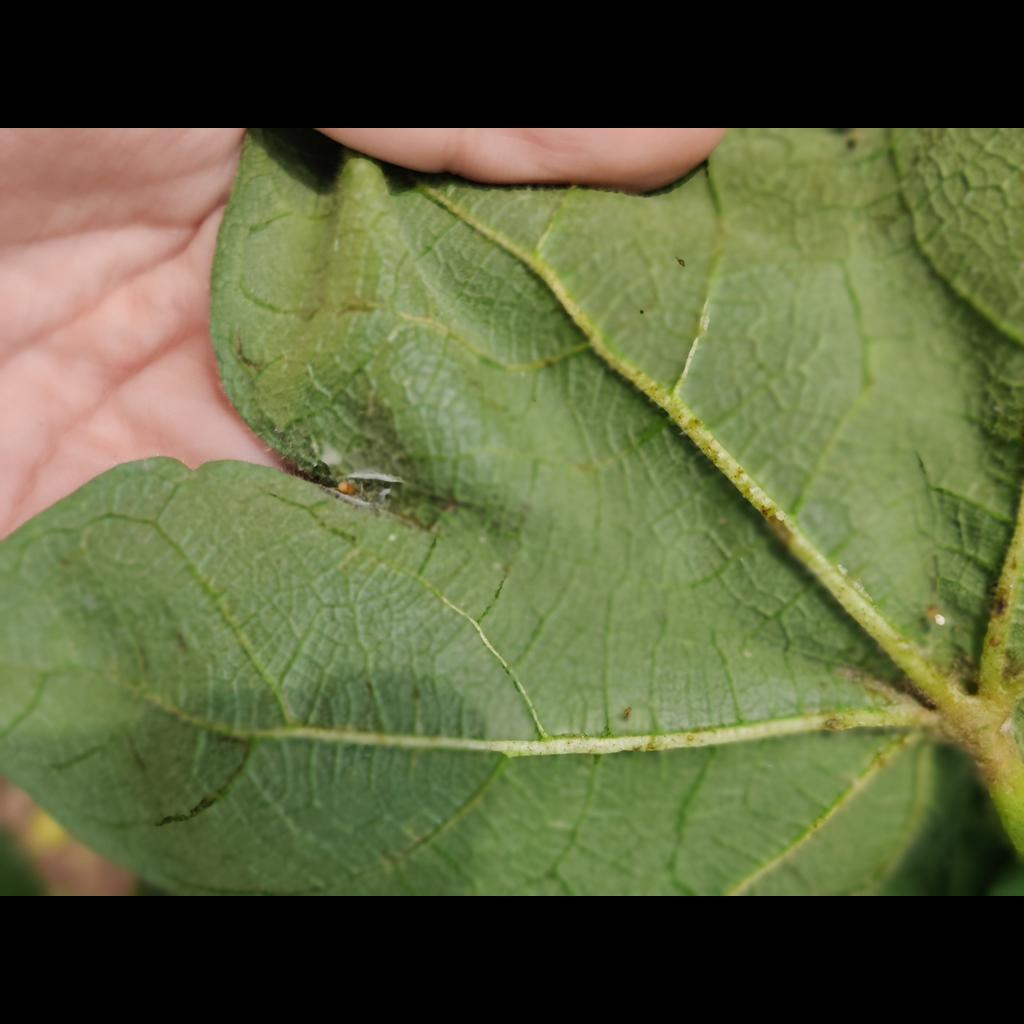nymph: (934, 614, 945, 625), (492, 562, 504, 569), (743, 649, 752, 657), (389, 534, 396, 541)
